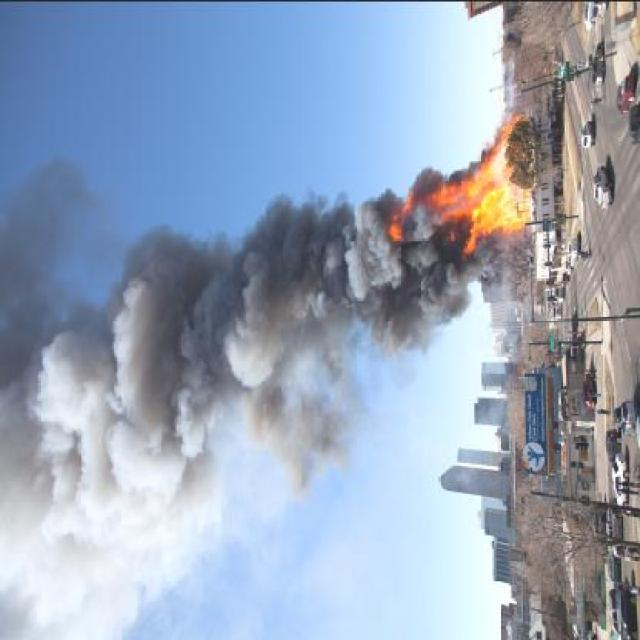Fire: (385, 112, 532, 267)
Smoke: (0, 151, 386, 640)
